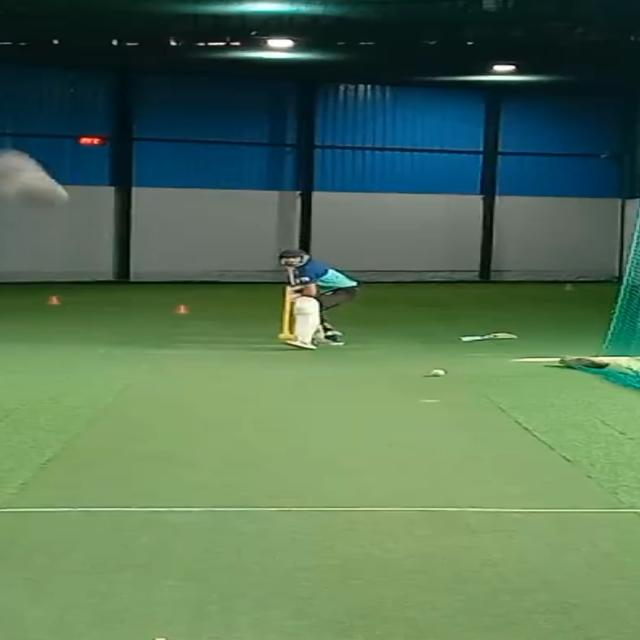ball: (7, 176, 73, 213), (427, 367, 448, 380)
